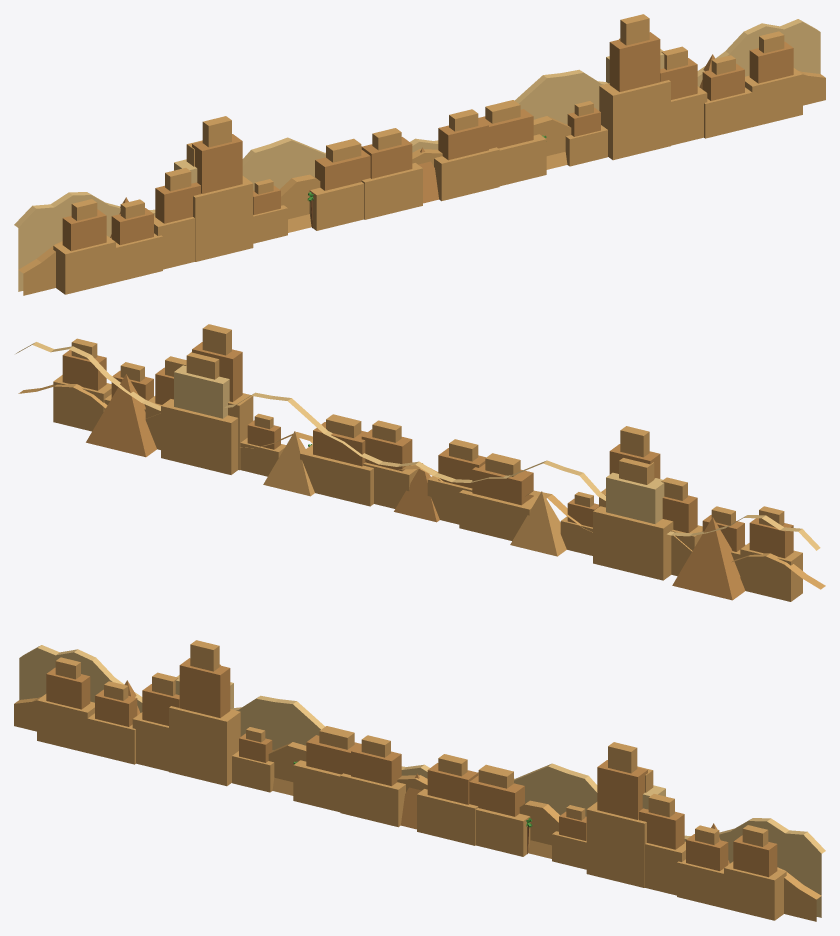
The model's file is backdrop_desert.glb.
3 renders of one model, top to bottom at view 1: azimuth 30°, elevation 25°; view 2: azimuth 150°, elevation 25°; view 3: azimuth 330°, elevation 25°, orthographic.
Parts seen in each view (by area): view 1: backdrop_desert; view 2: backdrop_desert; view 3: backdrop_desert.
Boxes of the visible parts, x1,y1,x2,y2 form: backdrop_desert: (14,14,825,295); backdrop_desert: (16,324,825,601); backdrop_desert: (14,640,825,921).
Size of the model in its own units: 260 by 40 by 14.
Materials: 1 (1 with a texture image).
